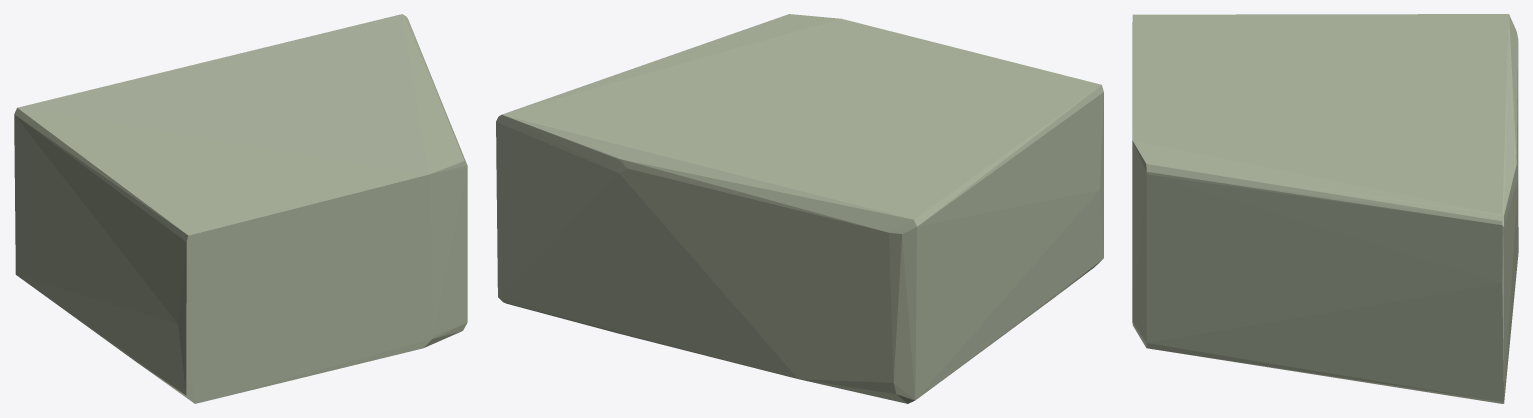
The model's file is bin_waste_b01.glb.
The picture shows the model from 3 angles, left to right: view 1: azimuth 30°, elevation 25°; view 2: azimuth 150°, elevation 25°; view 3: azimuth 270°, elevation 25°; orthographic projection. The views are drawn at different scales.
Visible parts, largest first — view 1: geometry_0; view 2: geometry_0; view 3: geometry_0.
Part boxes in pixels (x1,y1,x2,y2): geometry_0: [14, 14, 467, 403]; geometry_0: [496, 14, 1103, 403]; geometry_0: [1132, 14, 1518, 403].
Bounding box in the file's own units: 0.4799 × 0.2029 × 0.3732.
